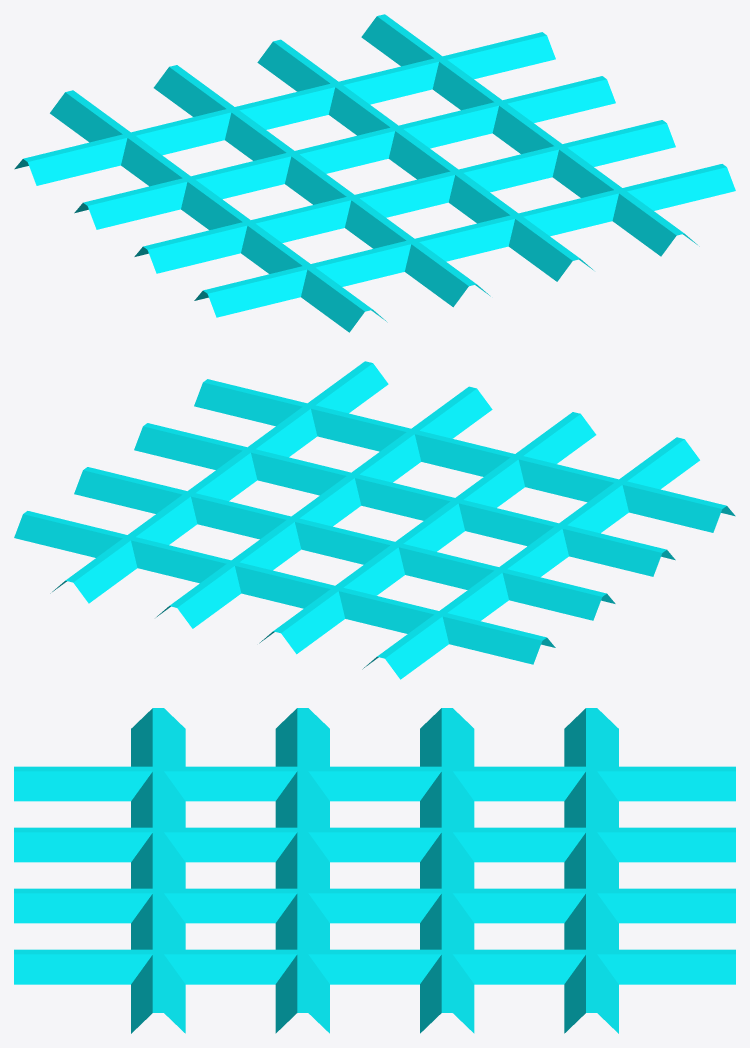
The model's file is Deco Wire #.fbx.
The picture shows the model from 3 angles, top to bottom: view 1: azimuth 30°, elevation 25°; view 2: azimuth 150°, elevation 25°; view 3: azimuth 270°, elevation 25°; orthographic projection. The views are drawn at different scales.
Parts seen in each view (by area): view 1: Deco Wire #; view 2: Deco Wire #; view 3: Deco Wire #.
Part boxes in pixels (bbox=[...]): Deco Wire #: bbox=[14, 14, 735, 332]; Deco Wire #: bbox=[14, 361, 735, 679]; Deco Wire #: bbox=[14, 708, 735, 1033].
Size of the model in its own units: 100 by 3.19 by 100.
